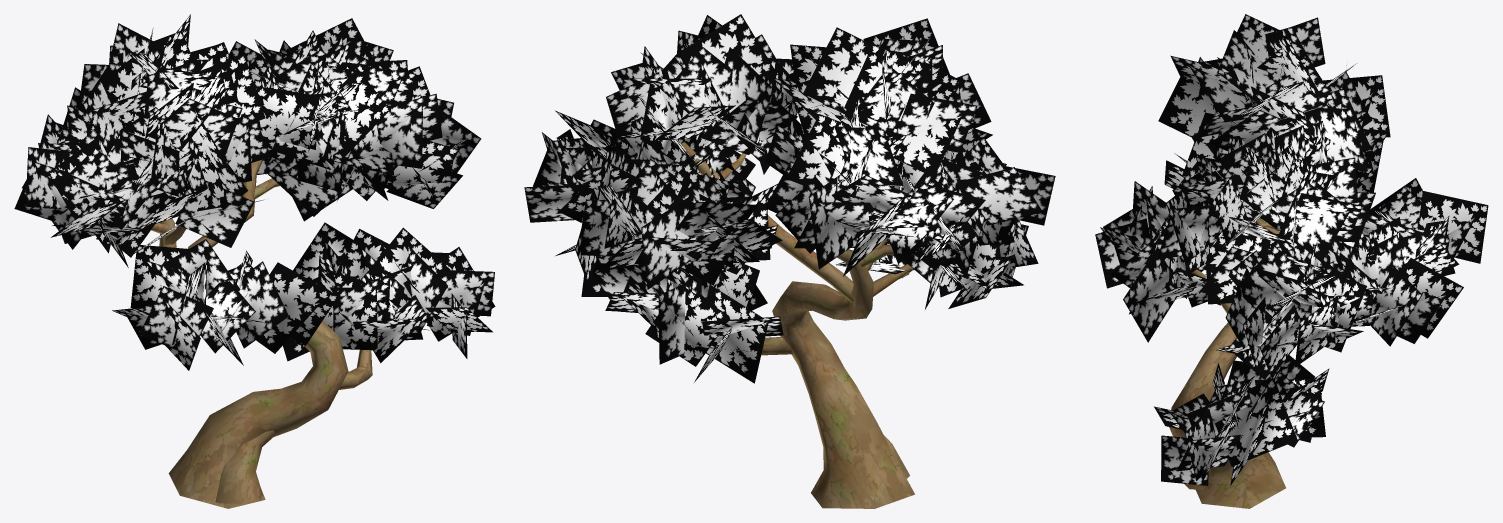
Rendered from P_RedMaple01_Gold.obj.
3 views of the same model, side by side, from view 1: azimuth 30°, elevation 25°; view 2: azimuth 150°, elevation 25°; view 3: azimuth 270°, elevation 25° (orthographic). The views are drawn at different scales.
Size of the model in its own units: 15.47 by 14.97 by 12.16.
